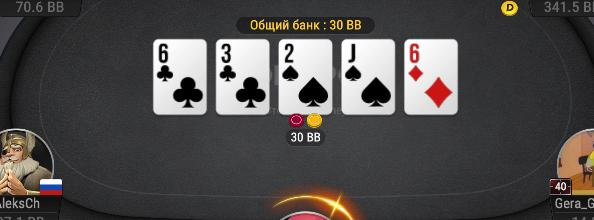2s: (280, 41, 332, 113)
3c: (217, 40, 268, 114)
6c: (154, 39, 206, 114)
6d: (405, 40, 457, 114)
Js: (342, 40, 395, 114)
